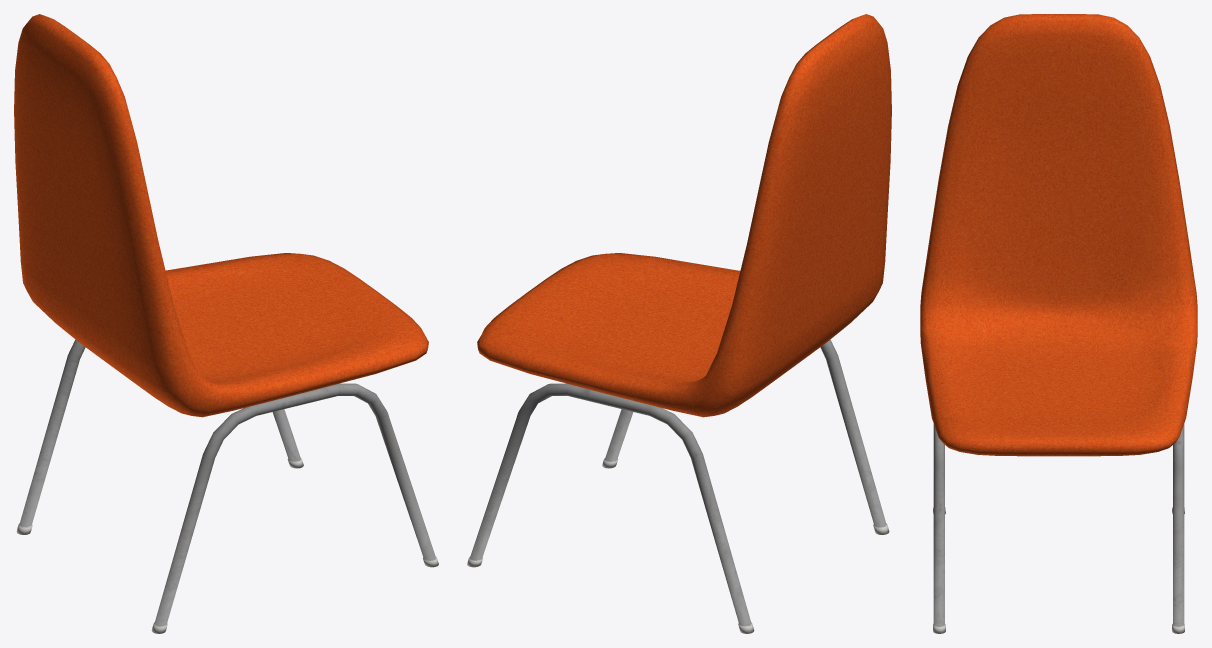
File: plastic chair.fbx
3 views of the same model, side by side, from view 1: azimuth 30°, elevation 25°; view 2: azimuth 150°, elevation 25°; view 3: azimuth 270°, elevation 25° (orthographic). The views are drawn at different scales.
Visible parts, largest first — view 1: Plane; view 2: Plane; view 3: Plane.
Part boxes in pixels (<box>): Plane: <box>14,14,438,633</box>; Plane: <box>467,14,891,633</box>; Plane: <box>920,14,1197,633</box>.
Bounding box in the file's own units: 236 × 390 × 200.
1 material, 1 textured.
